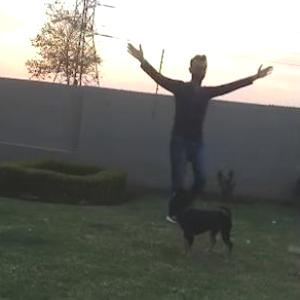takeoff: (135, 46, 263, 211)
